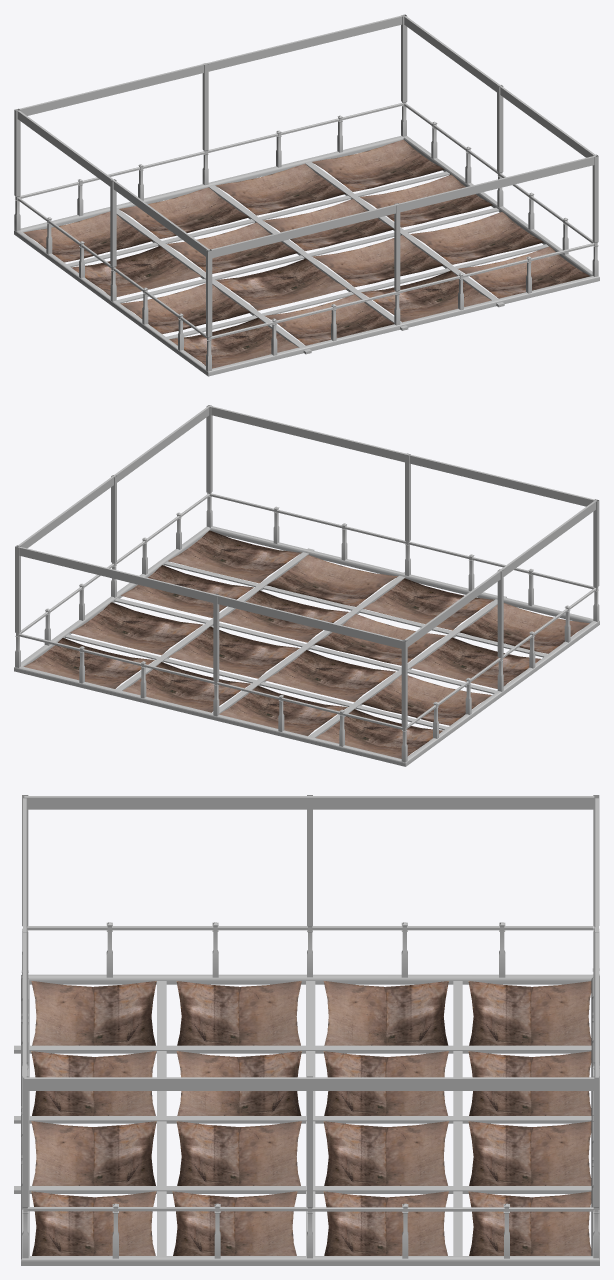
The model's file is Centre Lower Large_A2.fbx.
3 renders of one model, top to bottom at view 1: azimuth 30°, elevation 25°; view 2: azimuth 150°, elevation 25°; view 3: azimuth 270°, elevation 25°, orthographic. The views are drawn at different scales.
Parts seen in each view (by area): view 1: ClothNet (×16), RailingTop_L (×4), WoodFrame, RailingBlock_L (×8), WoodBlock_Bottom_L (×3), Railing_Hori (×4); view 2: ClothNet (×16), RailingTop_L (×4), WoodFrame, RailingBlock_L (×8), WoodBlock_Bottom_L (×3), Railing_Hori (×4); view 3: ClothNet (×16), RailingTop_L (×4), WoodBlock_Bottom_L (×3), WoodFrame, Railing_Hori (×4), RailingBlock_L (×4), WoodBlock_Bottom_S (×6).
Part boxes in pixels (x1,y1,x2,y2): ClothNet (×16): (23,139,589,368); RailingTop_L (×4): (17,15,596,258); WoodFrame: (14,135,599,376); RailingBlock_L (×8): (14,14,598,371); WoodBlock_Bottom_L (×3): (116,162,504,354); Railing_Hori (×4): (19,102,594,339); ClothNet (×16): (24,530,589,758); RailingTop_L (×4): (17,406,597,648); WoodFrame: (14,526,599,766); RailingBlock_L (×8): (15,405,599,762); WoodBlock_Bottom_L (×3): (116,548,506,737); Railing_Hori (×4): (19,493,594,729); ClothNet (×16): (31,981,591,1255); RailingTop_L (×4): (23,796,598,1090); WoodBlock_Bottom_L (×3): (14,1045,591,1193); WoodFrame: (21,974,599,1265); Railing_Hori (×4): (27,926,593,1211); RailingBlock_L (×4): (22,795,599,1258); WoodBlock_Bottom_S (×6): (157,981,462,1255).
Bounding box in the file's own units: 10.51 × 3.42 × 9.14.
